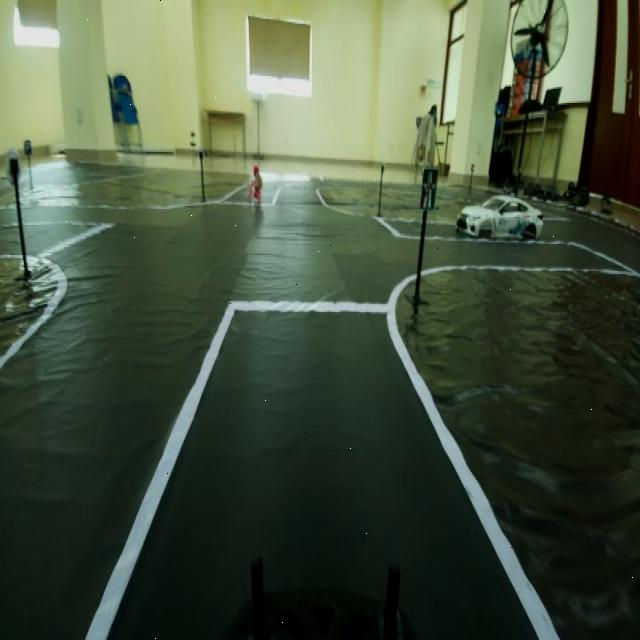highway_exit: (417, 164, 438, 213)
